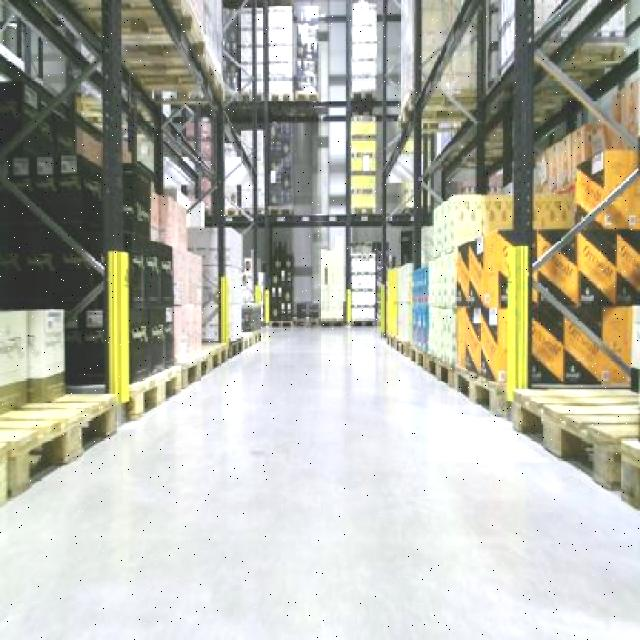pallet: (507, 381, 640, 489), (3, 382, 117, 501), (126, 352, 184, 424), (451, 362, 509, 433), (182, 348, 212, 396), (423, 349, 455, 388)
